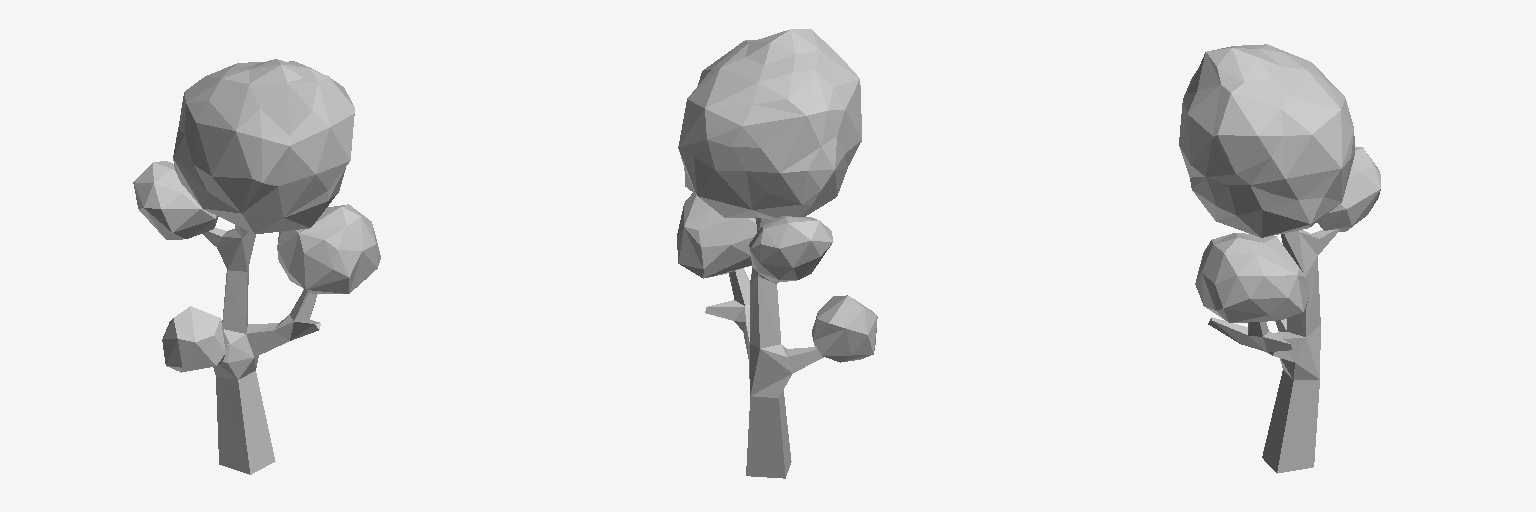
The model's file is tree1.obj.
3 renders of one model, left to right at view 1: azimuth 30°, elevation 25°; view 2: azimuth 150°, elevation 25°; view 3: azimuth 270°, elevation 25°, orthographic.
Visible parts, largest first — view 1: Tree1 NaturePack; view 2: Tree1 NaturePack; view 3: Tree1 NaturePack.
Boxes of the visible parts, x1,y1,x2,y2 form: Tree1 NaturePack: [133, 59, 380, 474]; Tree1 NaturePack: [677, 29, 877, 478]; Tree1 NaturePack: [1179, 44, 1380, 473].
Size of the model in its own units: 10.52 by 21.42 by 9.4.